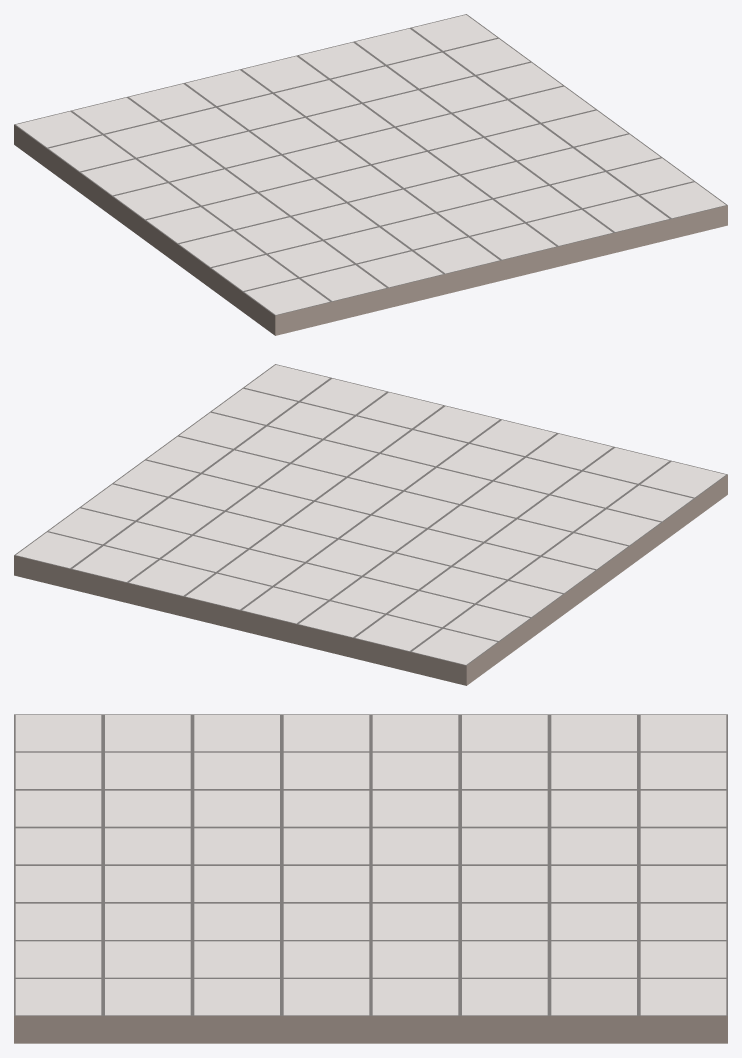
The model's file is Floor_04.fbx.
The picture shows the model from 3 angles, top to bottom: view 1: azimuth 30°, elevation 25°; view 2: azimuth 150°, elevation 25°; view 3: azimuth 270°, elevation 25°; orthographic projection. The views are drawn at different scales.
Parts seen in each view (by area): view 1: Floor_04; view 2: Floor_04; view 3: Floor_04.
Boxes of the visible parts, x1,y1,x2,y2 form: Floor_04: (14,14,727,335); Floor_04: (14,364,727,685); Floor_04: (14,714,727,1043).
Size of the model in its own units: 259 by 11.07 by 259.
